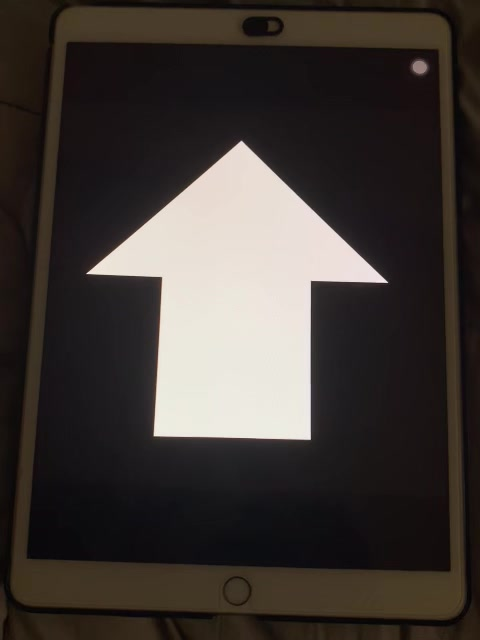up: (85, 134, 391, 446)
